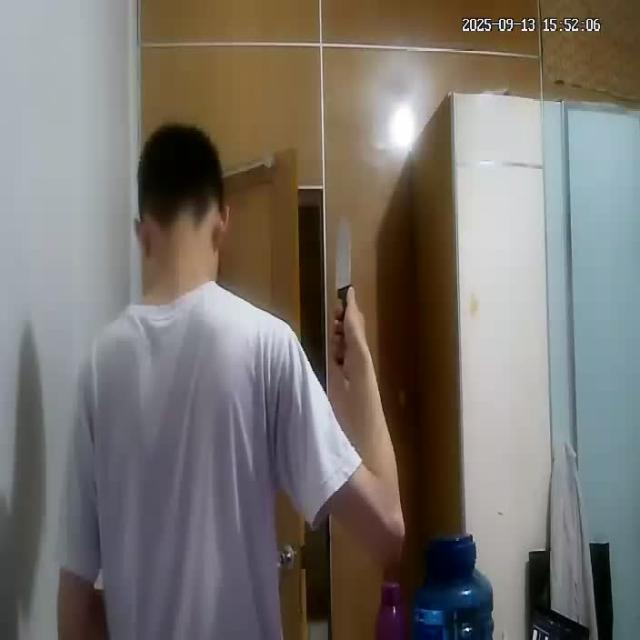senjata_tajam: (333, 211, 354, 299)
